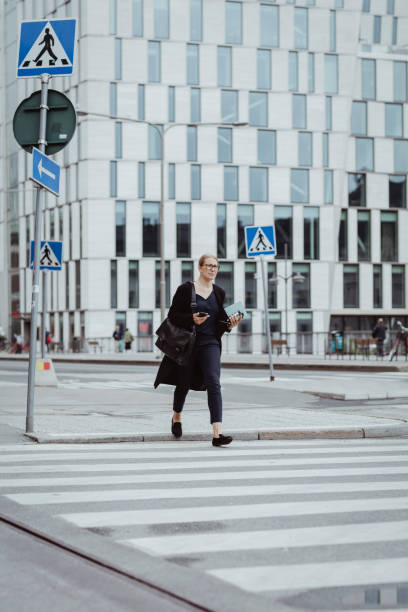pedestrian: (20, 21, 74, 73), (29, 239, 62, 267), (247, 226, 274, 256)
